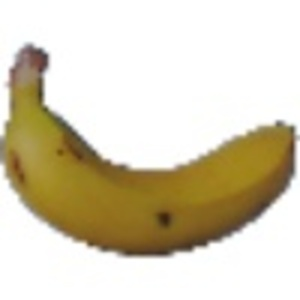banana: (3, 33, 294, 267)
